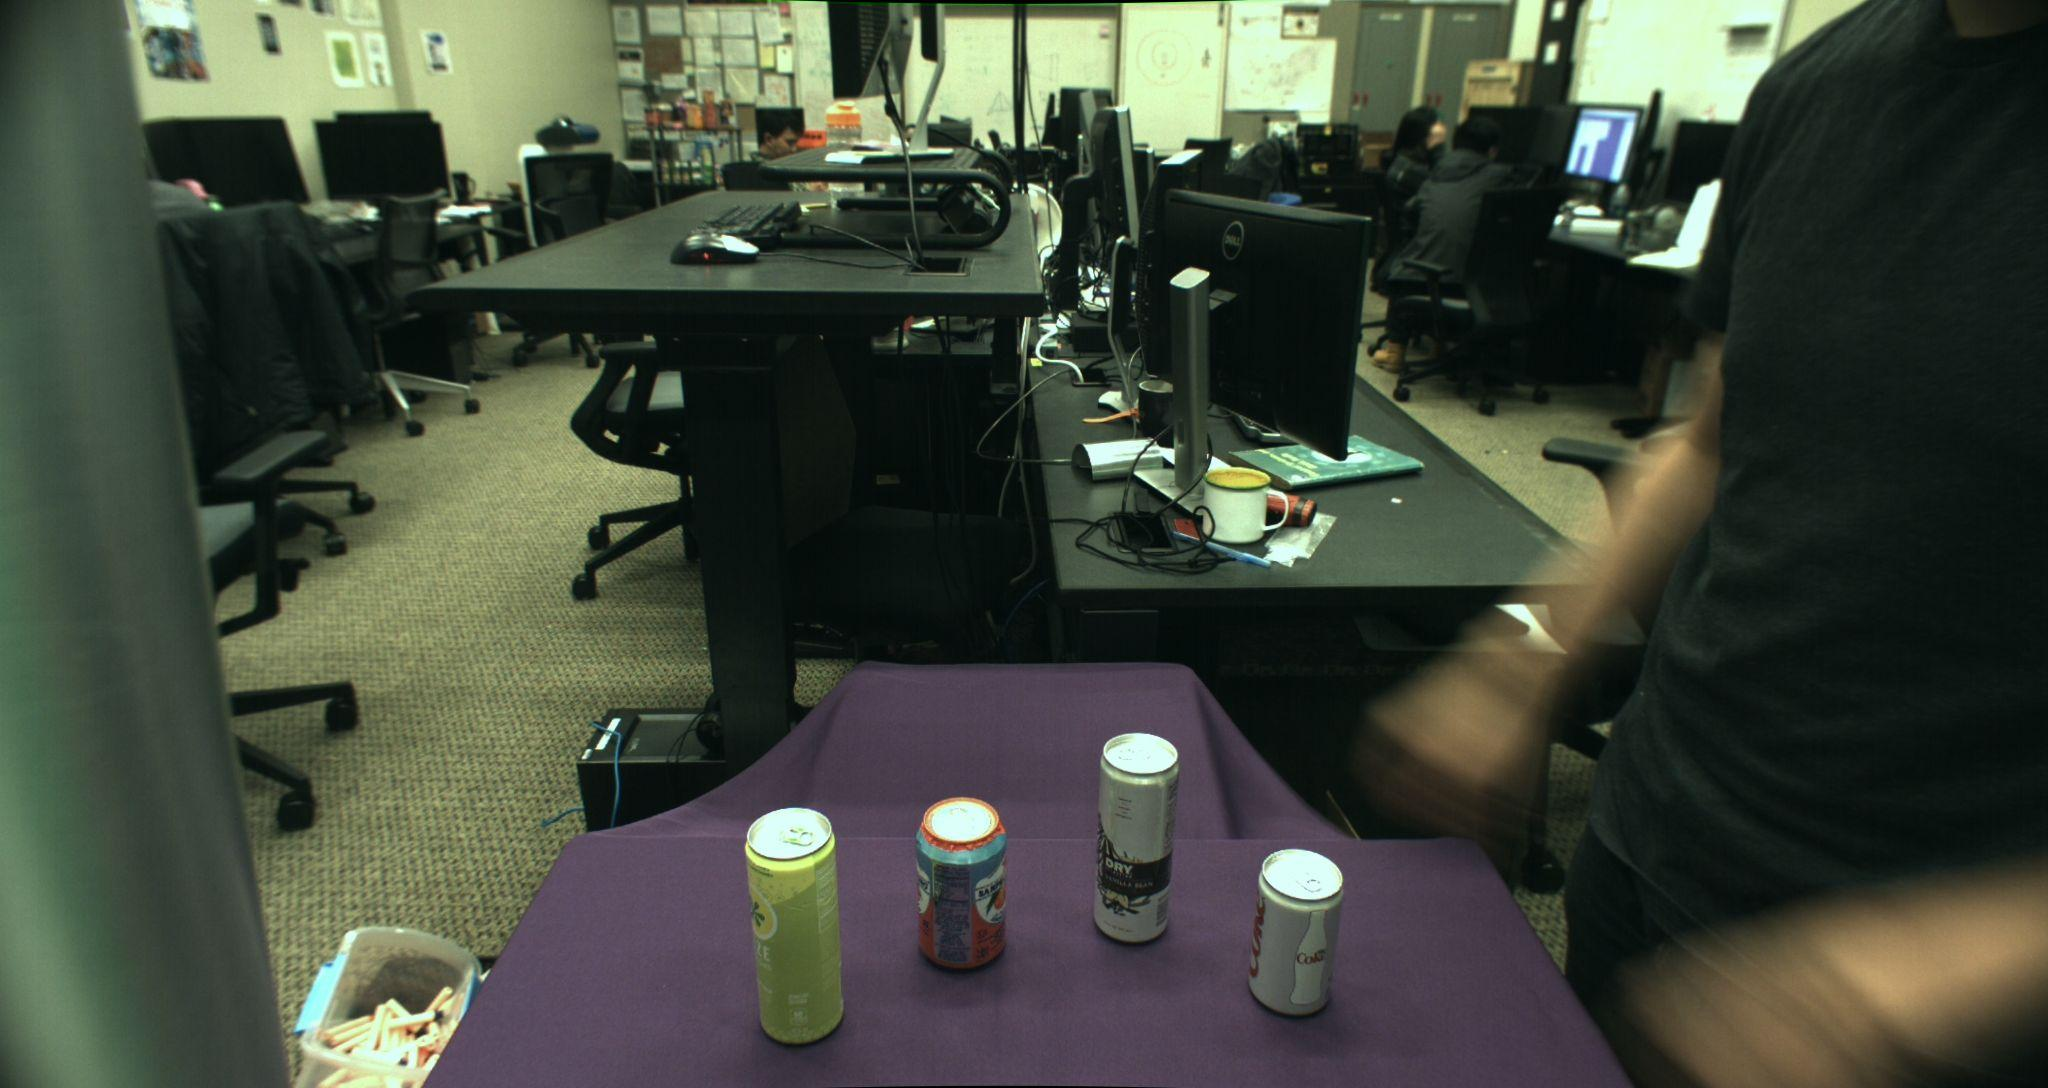can_diet_coke_small: (1246, 848, 1344, 1018)
can_dry_sparkling_vanilla_bean: (1094, 732, 1178, 944)
can_izze_fusions_lemon_lime: (744, 806, 845, 1045)
can_sanpellegrino_blood_orange: (916, 795, 1009, 973)
